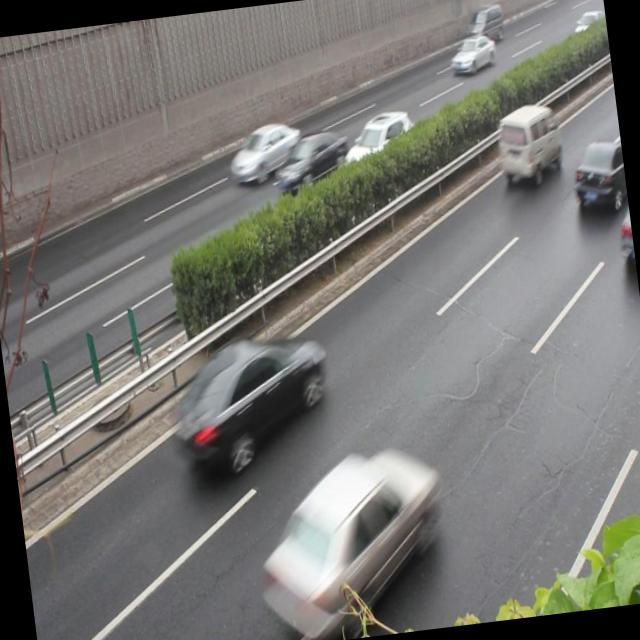car: (252, 440, 447, 630), (165, 330, 328, 466), (337, 106, 419, 176), (269, 126, 349, 190), (567, 133, 628, 215), (226, 118, 302, 182), (445, 31, 494, 75)
